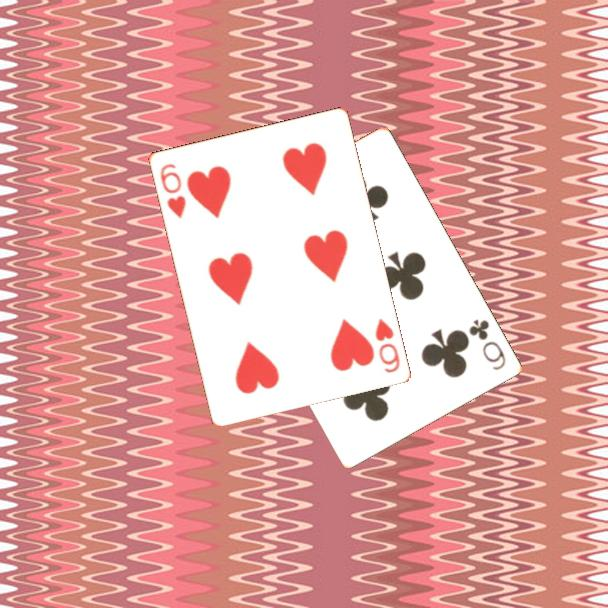c06: (465, 316, 509, 373)
h06: (156, 160, 188, 221), (371, 315, 402, 376)
